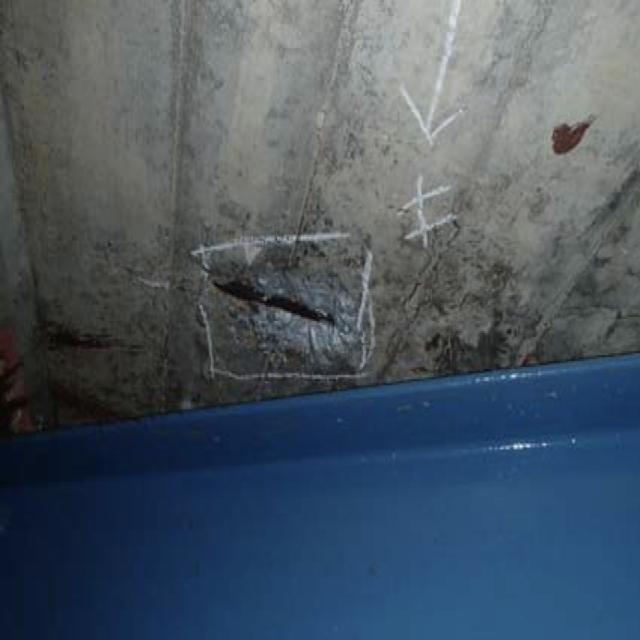spalling: (197, 219, 383, 377)
